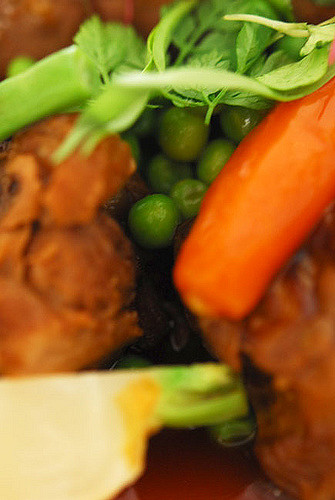boiled peas: (152, 117, 200, 211)
chopped lettuce: (170, 38, 290, 101)
